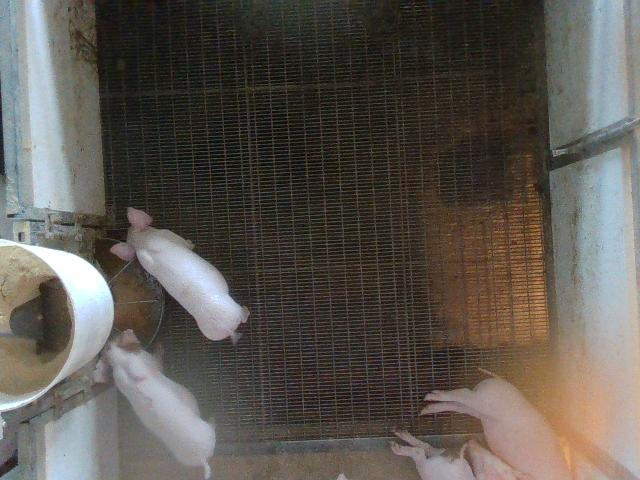pig-5: (94, 330, 216, 478)
